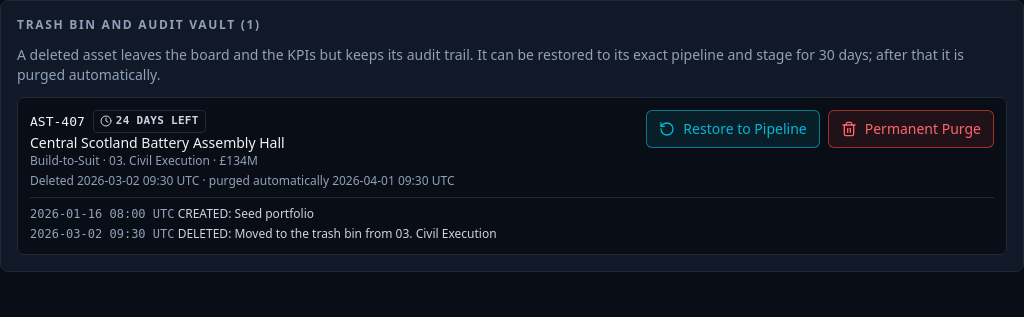
Test case: TrashView › purges only after an explicit confirmation
This screenshot has width=1024, height=317.
Later steps or results of the test are not shown.
Click the button with aria-label "Permanent purge of AST-407": (911, 129) [828,110,994,148]
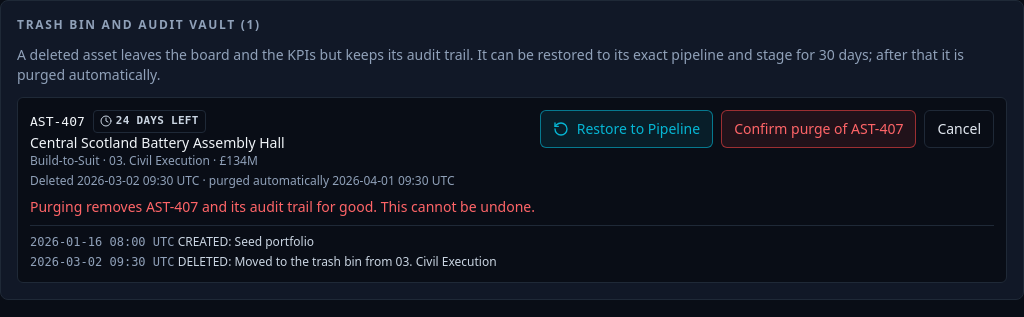
Expected: the message shows "This cannot be undone.", [198,196,535,216]
Click the button "Cancel": (959, 129) [924,110,994,148]
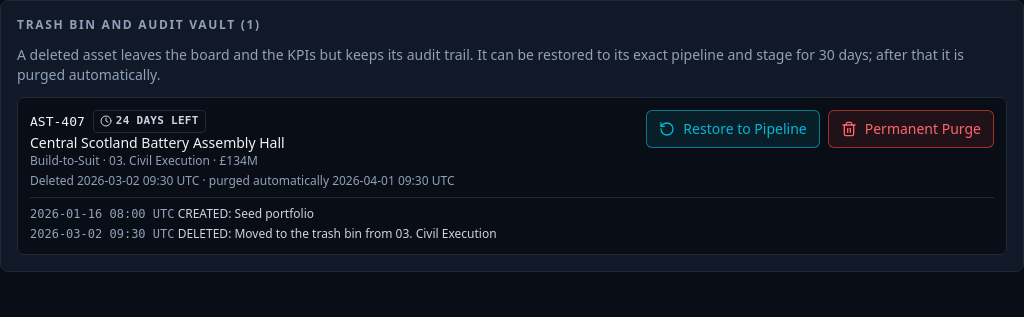
Expected: the message "Purging removes AST-407 and its audit trail for good. This cannot be undone." is gone
